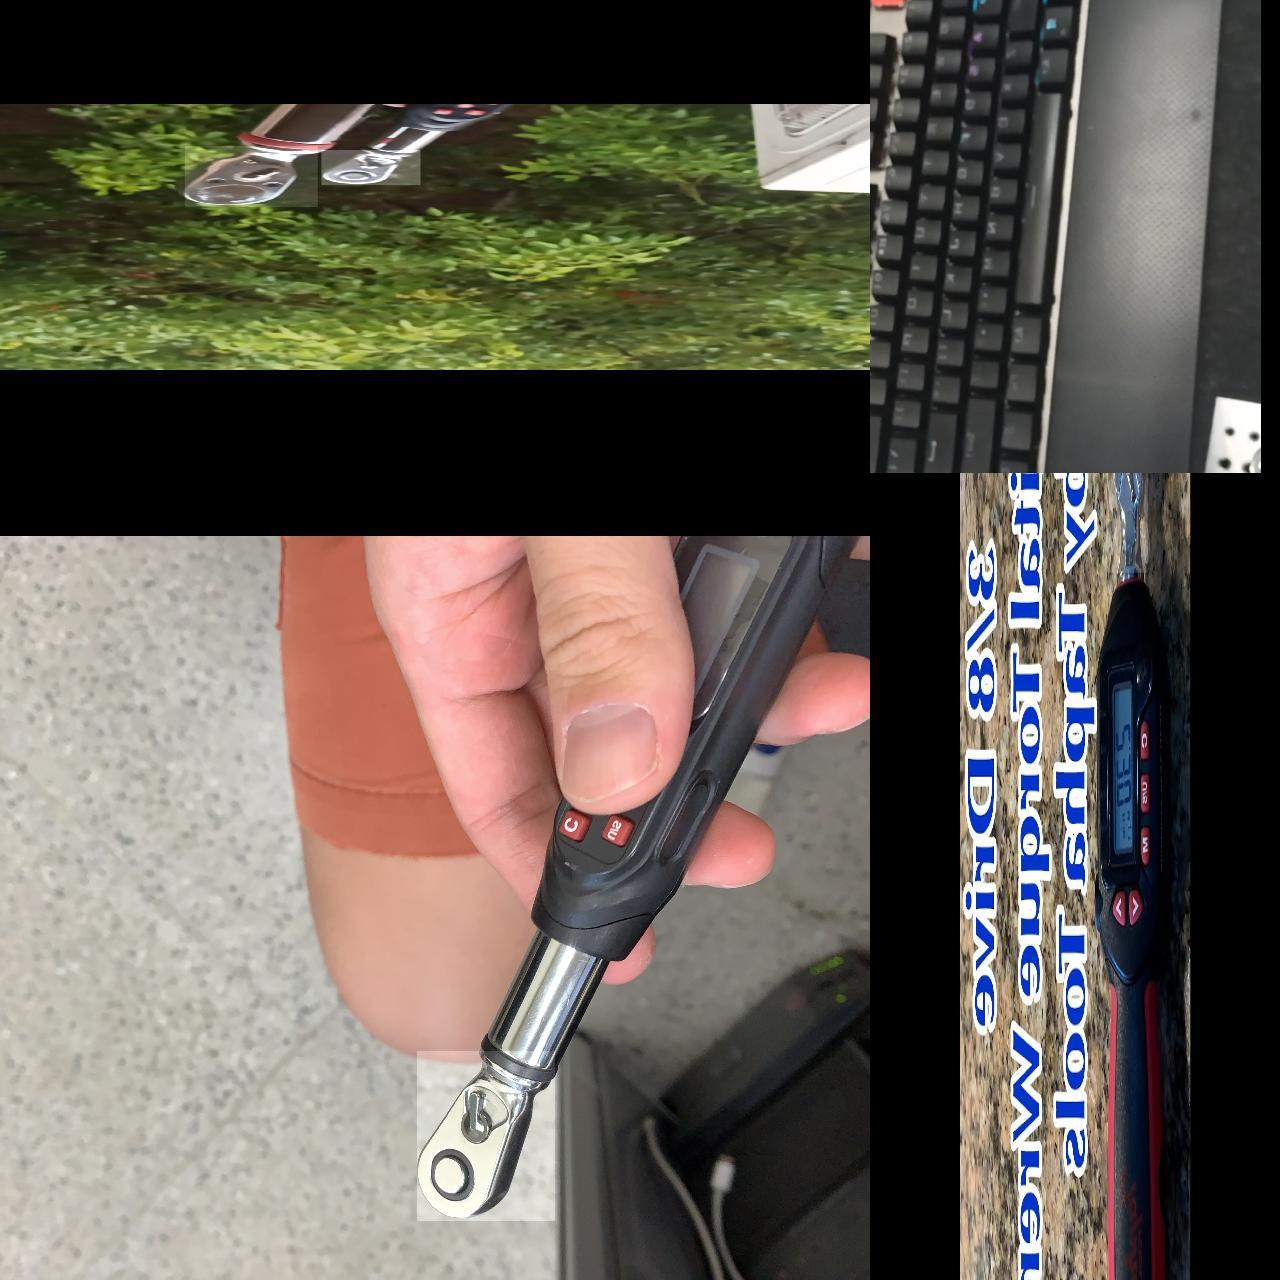Tool: (417, 1050, 554, 1220), (185, 145, 318, 206), (1107, 474, 1148, 572), (321, 150, 421, 184)
